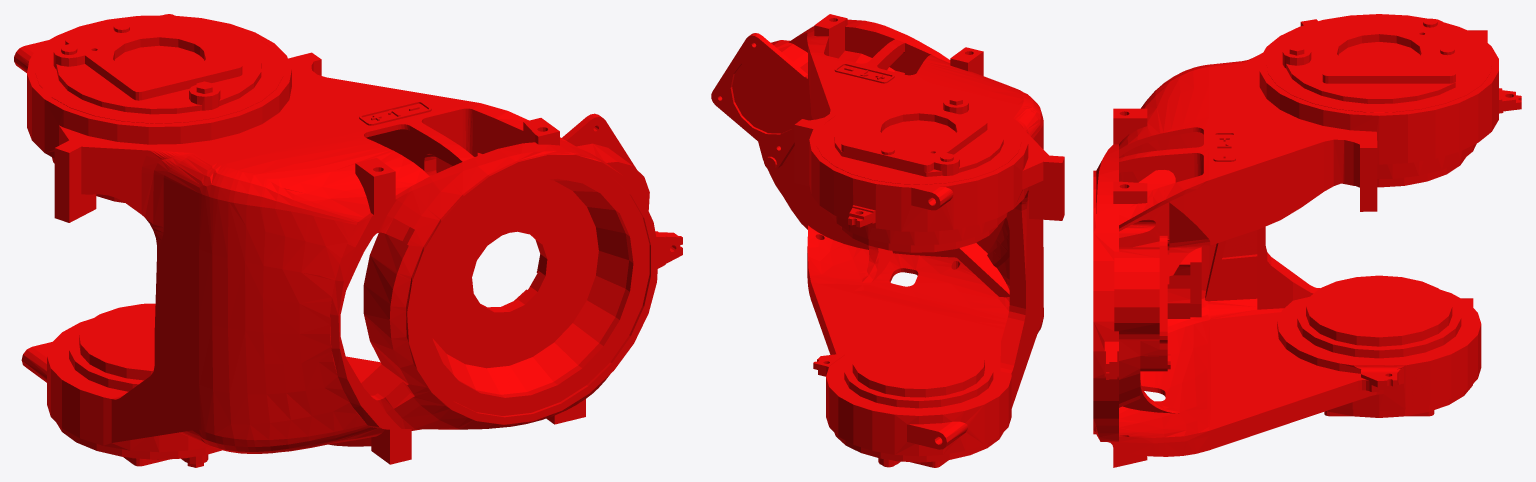
3 renders of one model, left to right at view 1: azimuth 30°, elevation 25°; view 2: azimuth 150°, elevation 25°; view 3: azimuth 270°, elevation 25°, orthographic. The views are drawn at different scales.
Parts seen in each view (by area): view 1: link_1; view 2: link_1; view 3: link_1.
Part boxes in pixels (x1,y1,x2,y2): link_1: (14, 14, 682, 467); link_1: (711, 14, 1064, 467); link_1: (1093, 14, 1521, 467).
Bounding box in the file's own units: 0.9475 × 0.6805 × 0.755.
